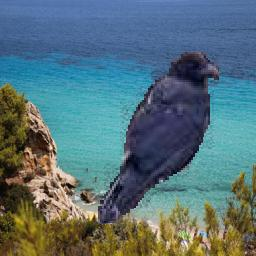Crow: (99, 52, 220, 224)
